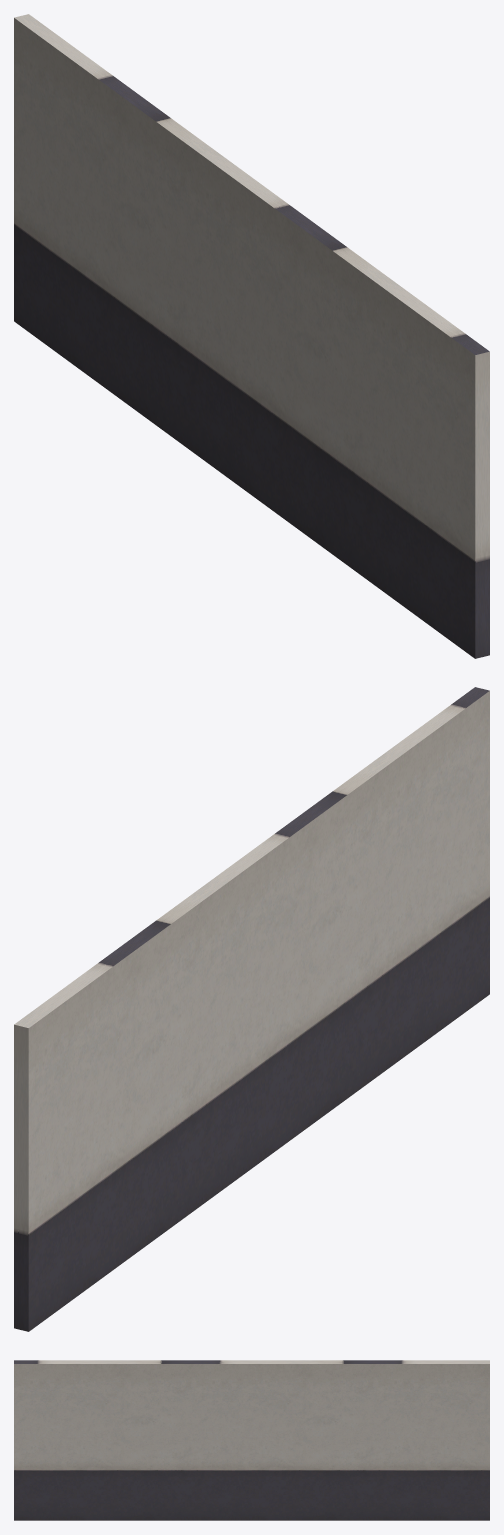
The model's file is souplongwall021.glb.
The picture shows the model from 3 angles, top to bottom: view 1: azimuth 30°, elevation 25°; view 2: azimuth 150°, elevation 25°; view 3: azimuth 270°, elevation 25°; orthographic projection. The views are drawn at different scales.
Visible parts, largest first — view 1: souplongwall021_high_1; view 2: souplongwall021_high_1; view 3: souplongwall021_high_1.
Part boxes in pixels (x1,y1,x2,y2): souplongwall021_high_1: [14, 14, 489, 658]; souplongwall021_high_1: [14, 687, 489, 1331]; souplongwall021_high_1: [14, 1360, 489, 1520].
Bounding box in the file's own units: 0.1504 × 2.95 × 8.11.
Materials: 1 (1 with a texture image).
